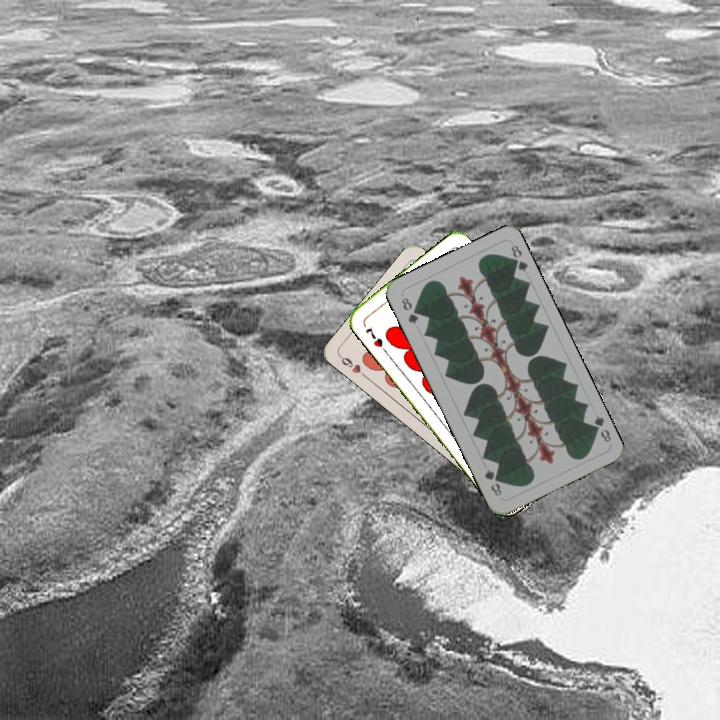G8: (586, 411, 614, 445), (397, 293, 421, 328)
H7: (361, 323, 385, 350)
H9: (336, 352, 370, 381)
